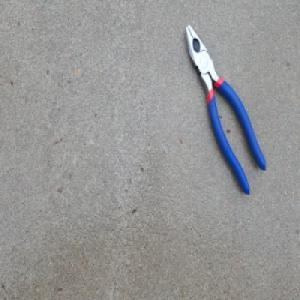Pliers: (183, 23, 267, 197)
